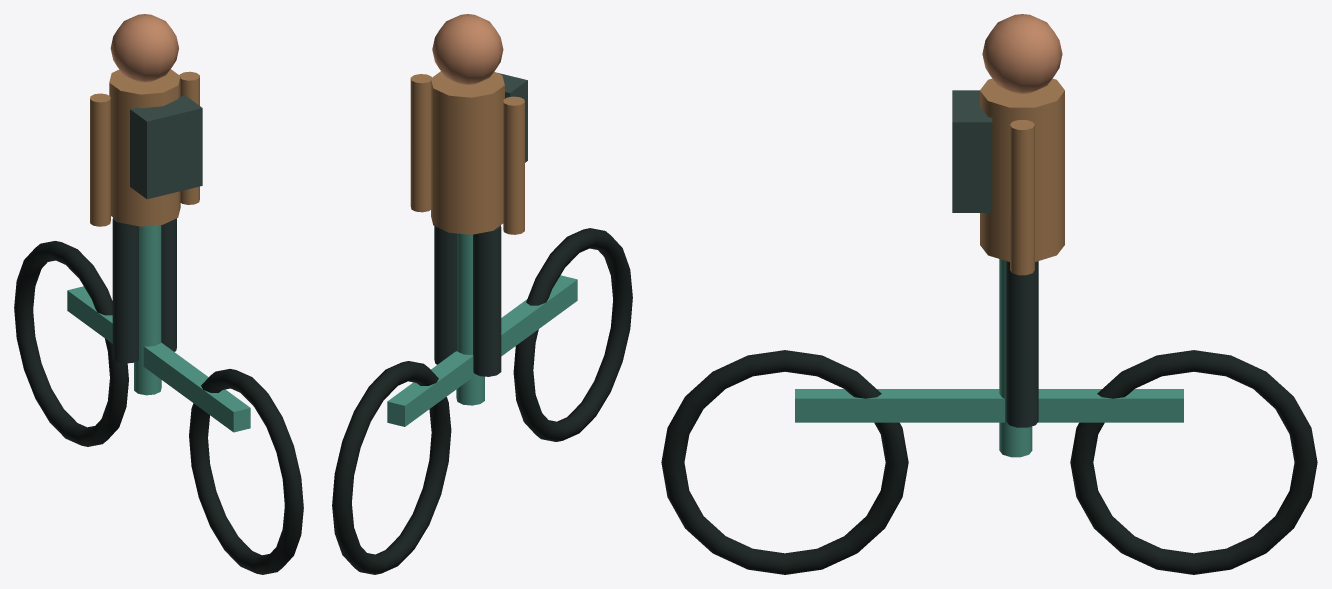
Rendered from cyclist.glb.
The picture shows the model from 3 angles, left to right: view 1: azimuth 30°, elevation 25°; view 2: azimuth 150°, elevation 25°; view 3: azimuth 270°, elevation 25°; orthographic projection. The views are drawn at different scales.
Visible parts, largest first — view 1: cyclist; view 2: cyclist; view 3: cyclist.
Boxes of the visible parts, x1,y1,x2,y2 form: cyclist: (14,14,303,574); cyclist: (332,14,632,574); cyclist: (661,14,1317,574).
Size of the model in its own units: 0.4371 by 1.86 by 1.99.
